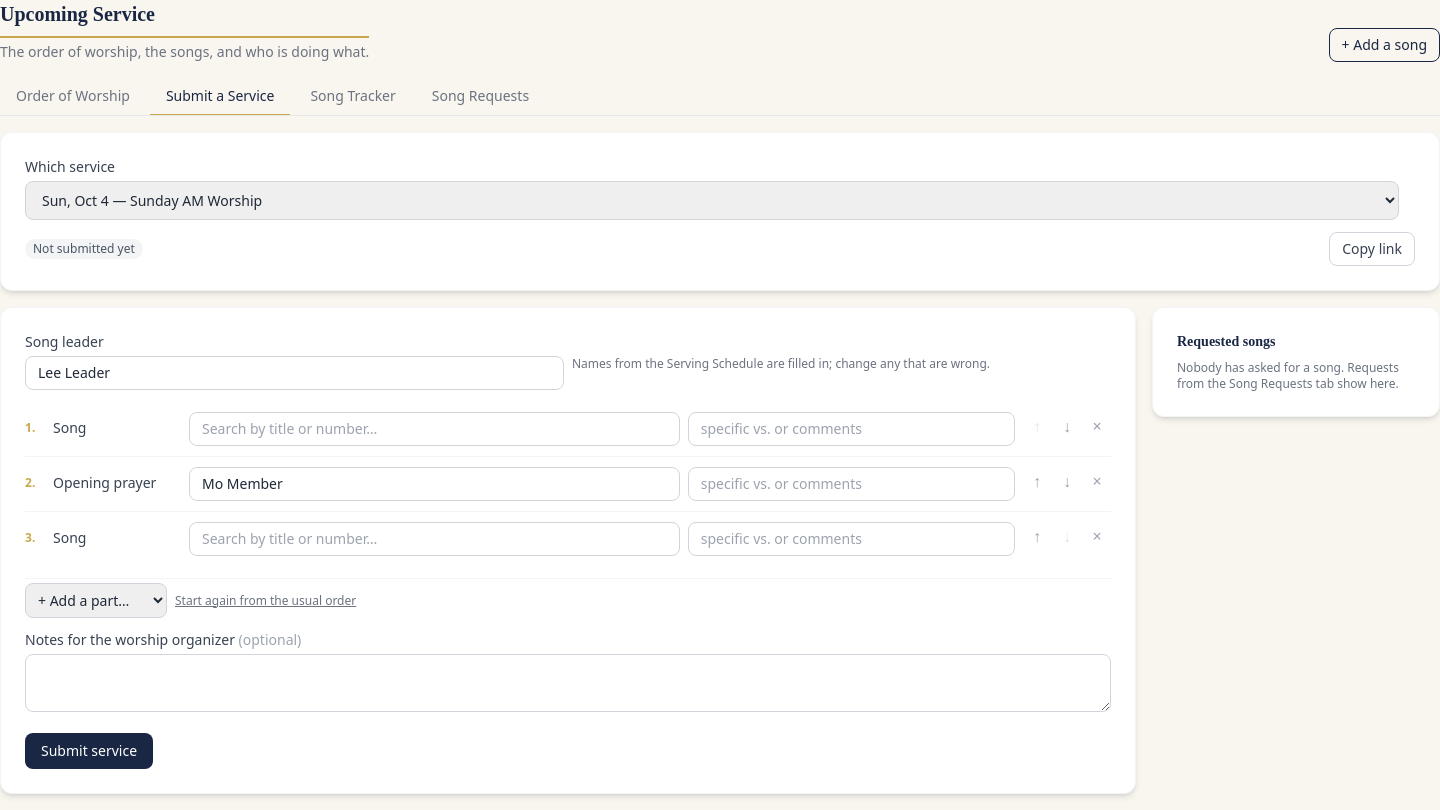
Test: Submit a Service › sends every part in order, and says the organizer has been emailed
The width and height of the screenshot is (1440, 810).
expect the list named "Order of the service" is shown: met, box [25,402,1111,566]
Type "grace" into the field named "Song for Song 1" at (434, 429), box [189,412,680,446]
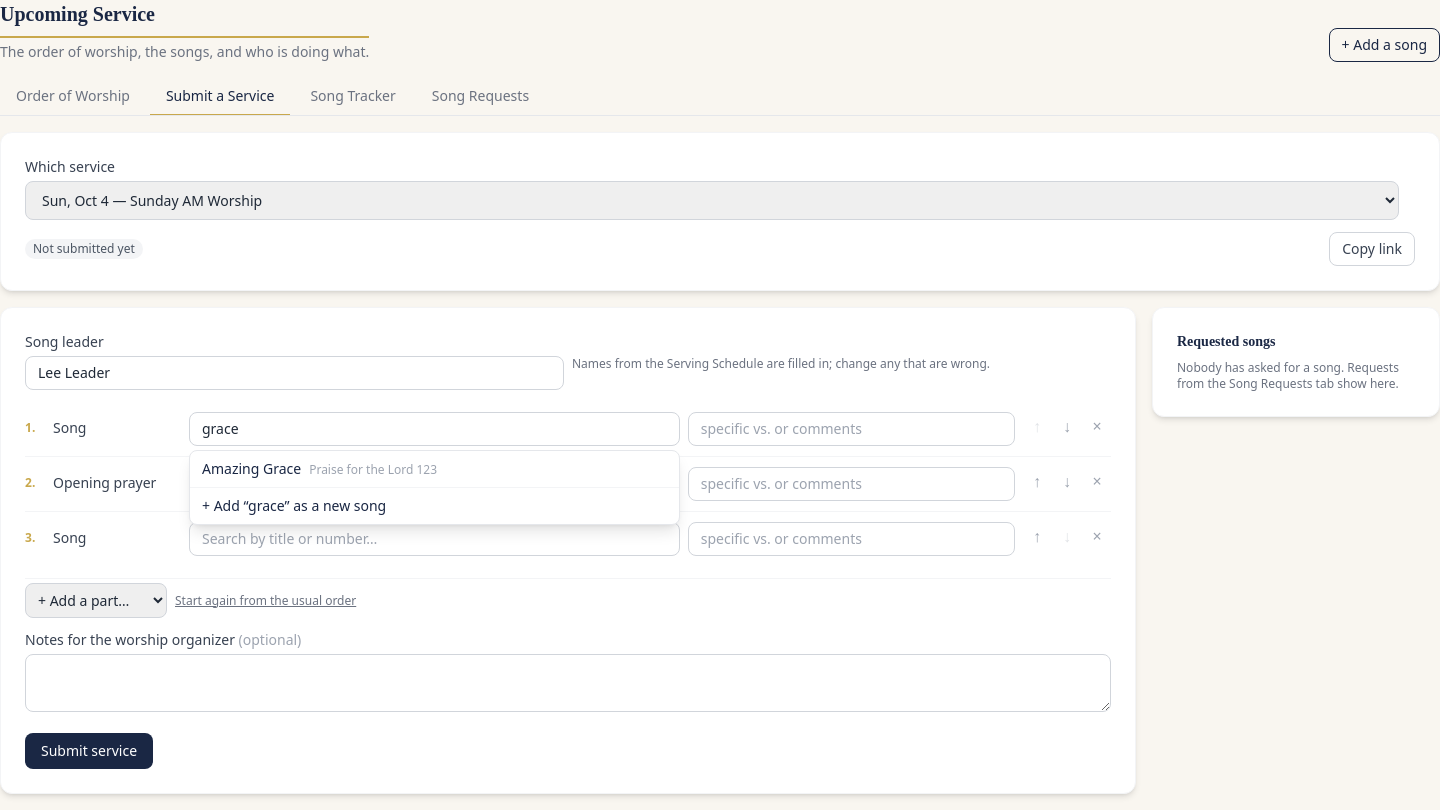
Press the mouse on the option "Amazing Grace" at (434, 469), box [190,451,679,487]
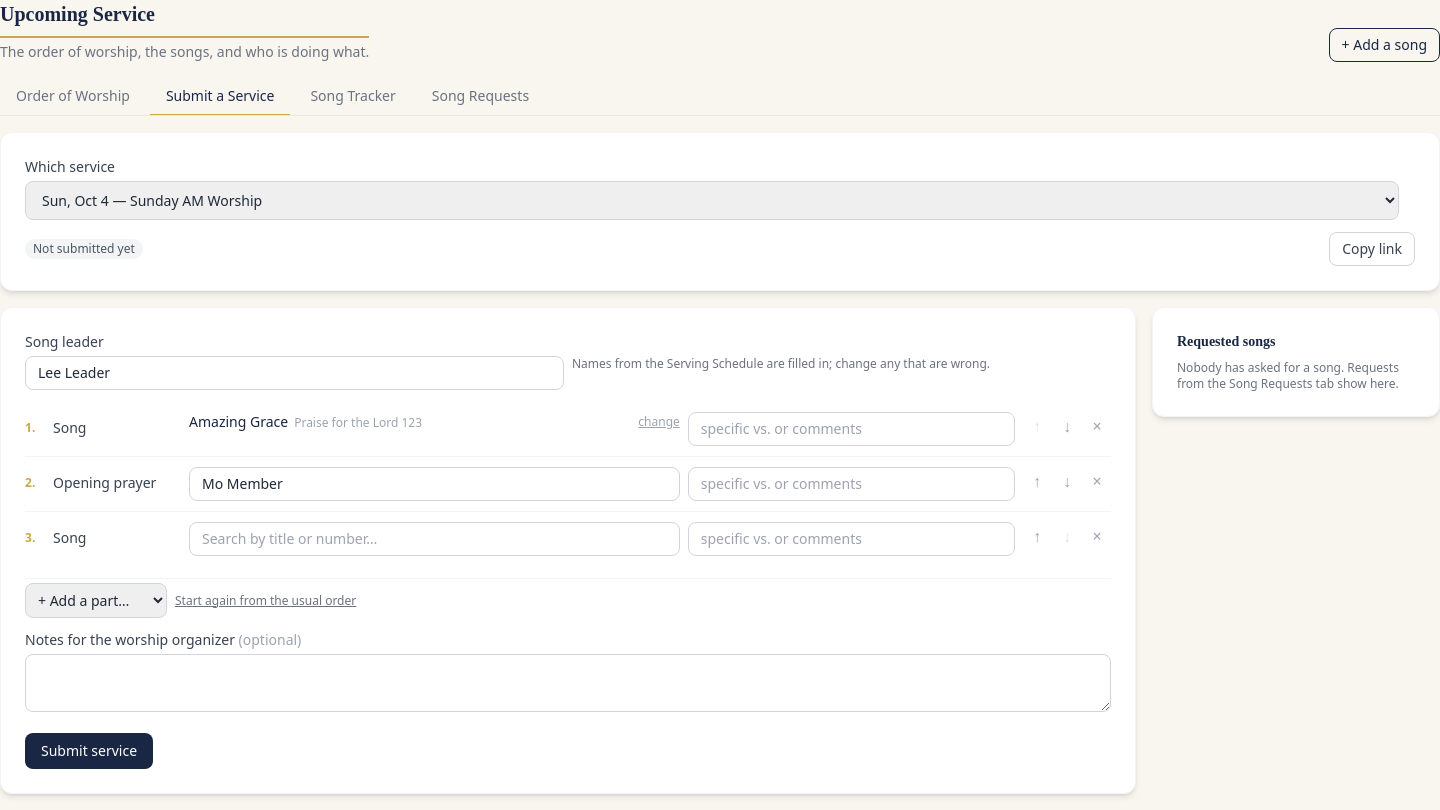
Type "abide" into the field named "Song for Song 3" at (434, 539), box [189,522,680,556]
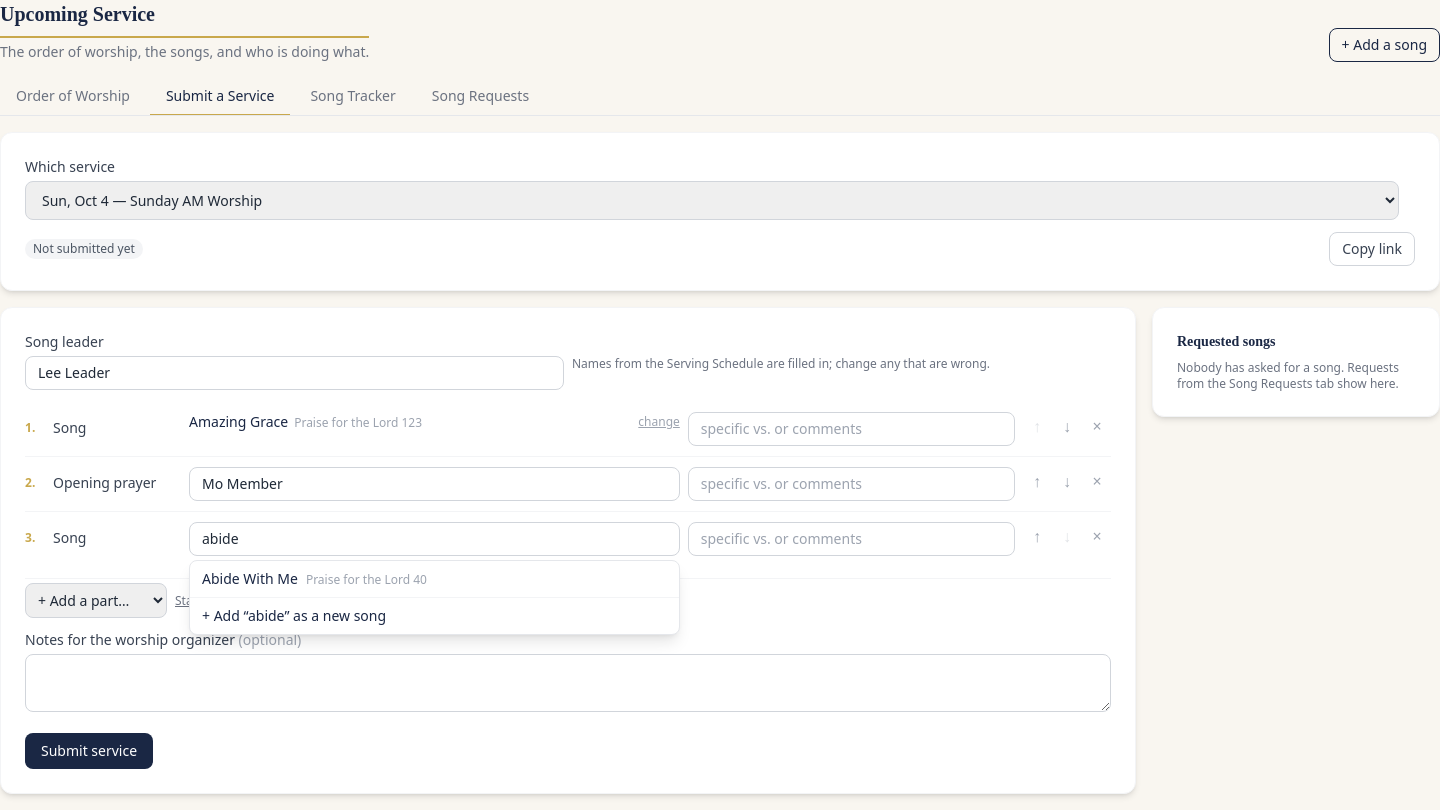
Press the mouse on the option "Abide With Me" at (250, 578), box [190,561,679,597]
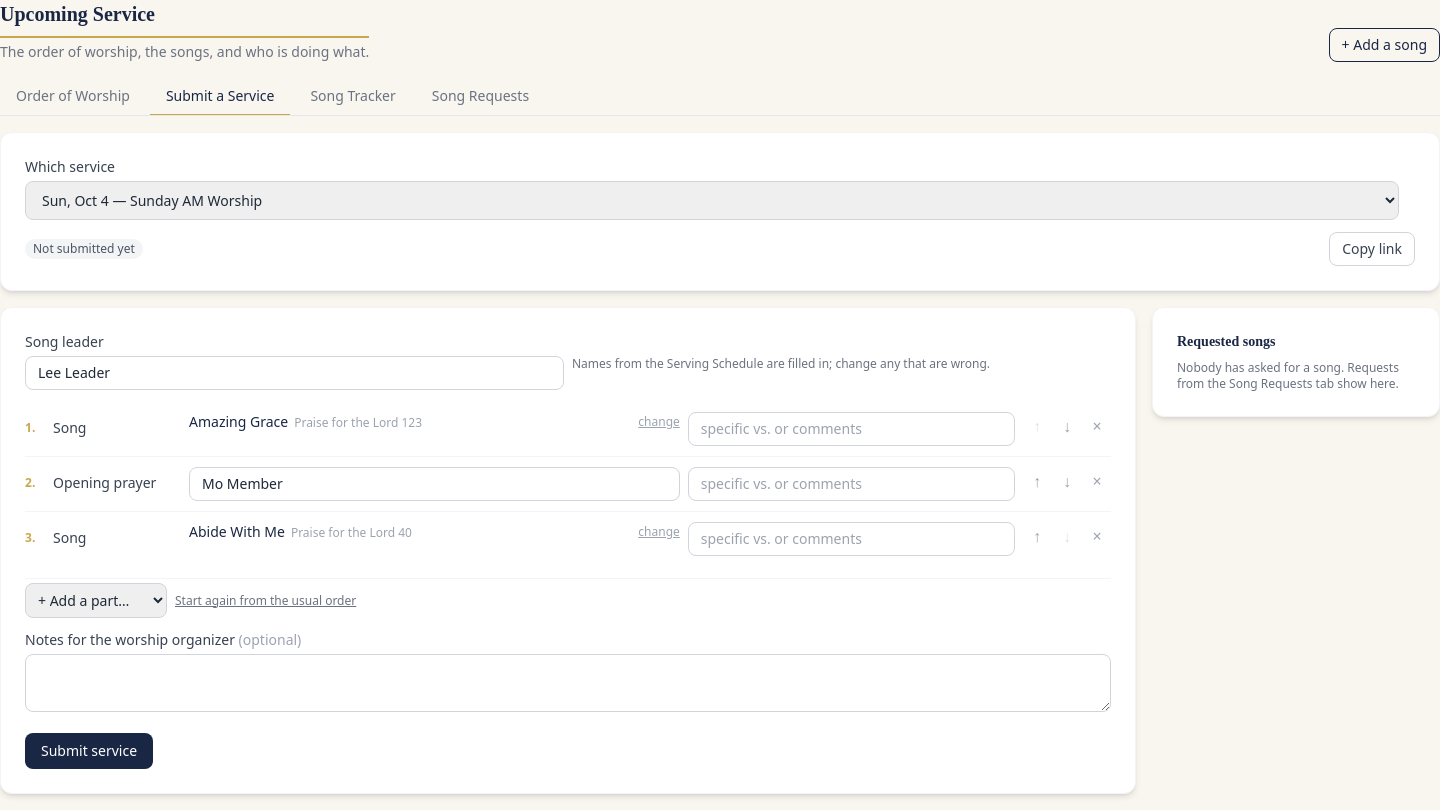
Type "vv. 1 and 3" into the field named "Note for Song 3" at (851, 539), box [688,522,1015,556]
Click the button named "Move Song 3 up" at (1037, 536), box [1023,522,1051,550]
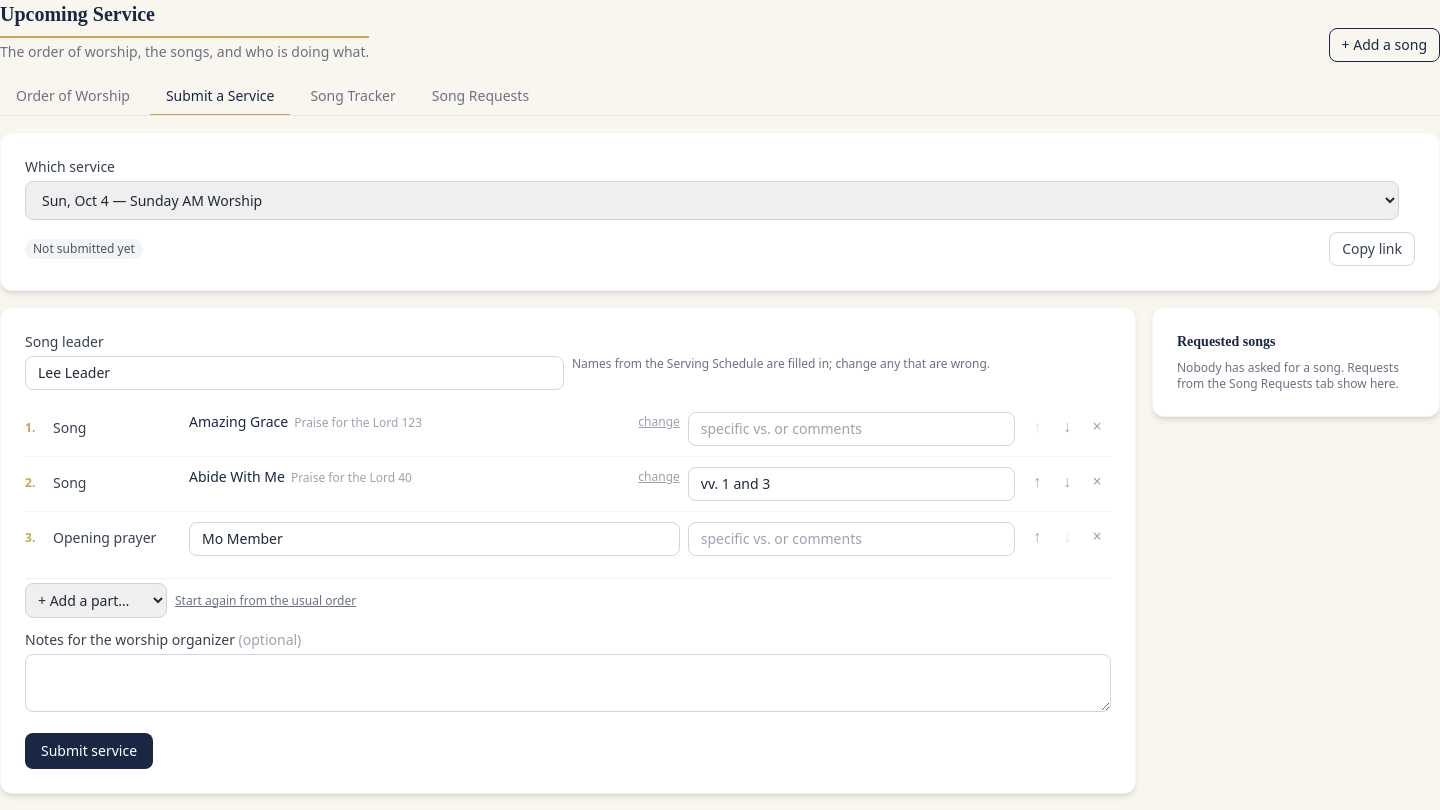
Click the button "Submit service" at (89, 751), box [25,733,153,769]
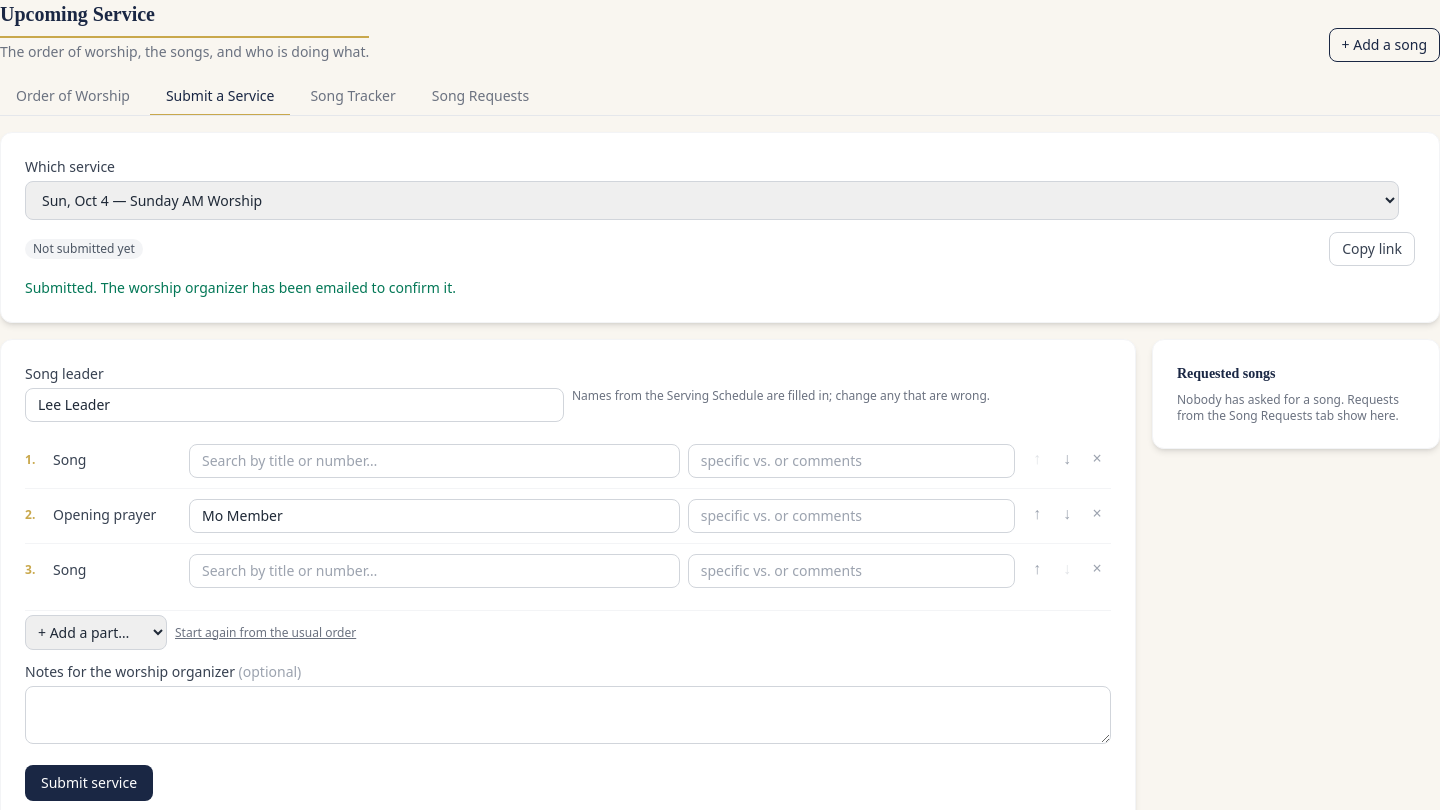
expect the text "Submitted. The worship organizer has been emailed to confirm it." is shown: met, box [25,278,456,297]
